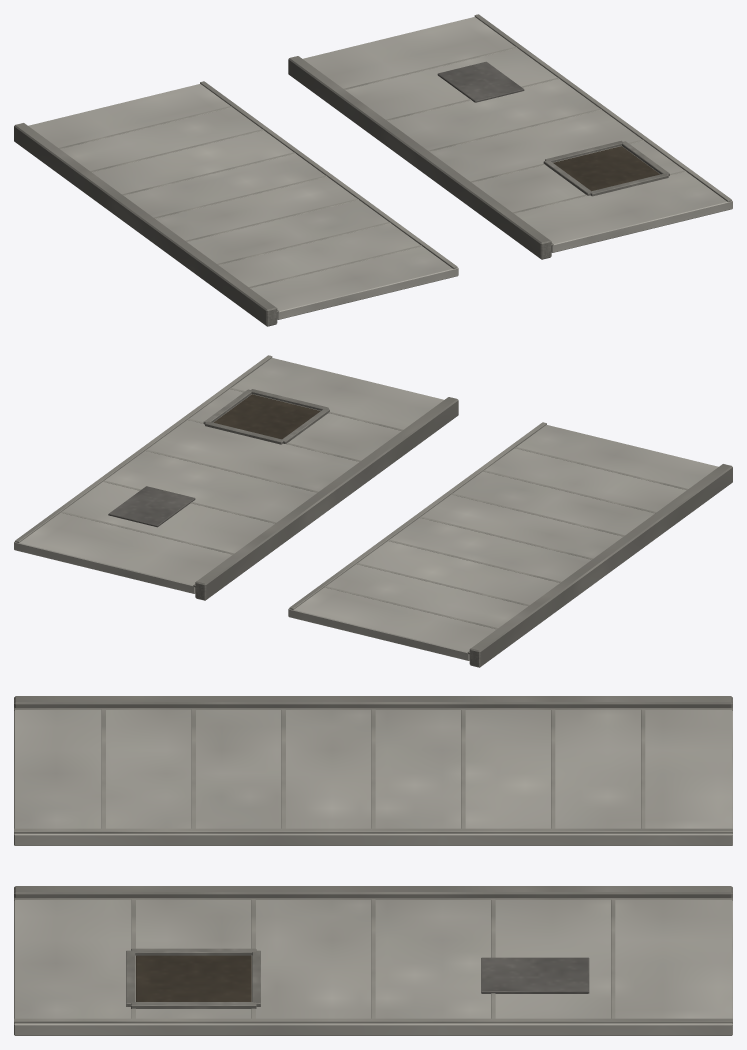
Rendered from sidewalk_8m.glb.
3 views of the same model, one above another, from view 1: azimuth 30°, elevation 25°; view 2: azimuth 150°, elevation 25°; view 3: azimuth 270°, elevation 25° (orthographic). The views are drawn at different scales.
Visible parts, largest first — view 1: sidewalk_8m_v2, sidewalk_8m_v1; view 2: sidewalk_8m_v2, sidewalk_8m_v1; view 3: sidewalk_8m_v1, sidewalk_8m_v2.
Part boxes in pixels (x1,y1,x2,y2): sidewalk_8m_v2: (288,14,732,259); sidewalk_8m_v1: (14,81,458,326); sidewalk_8m_v2: (14,355,458,600); sidewalk_8m_v1: (288,422,732,667); sidewalk_8m_v1: (14,696,732,845); sidewalk_8m_v2: (14,886,732,1035).
Size of the model in its own units: 8.5 by 0.3 by 8.
Materials: 2 (2 with a texture image).
